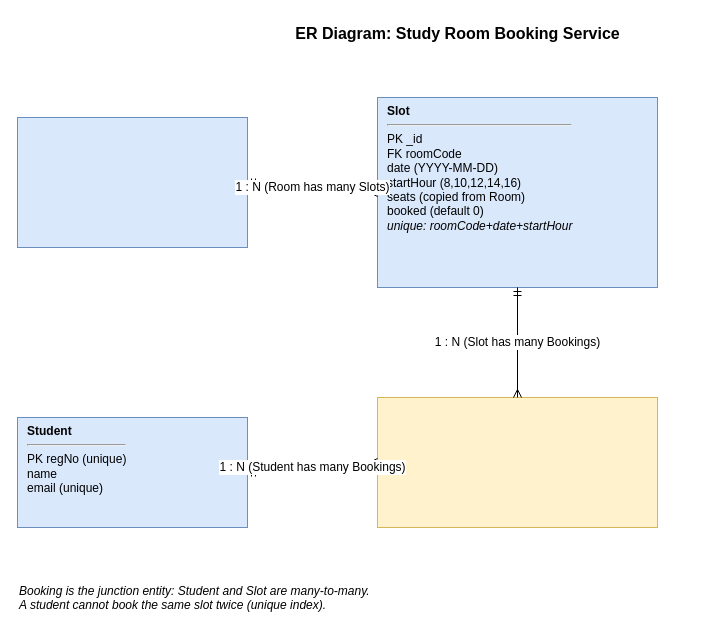
This 725x644 diagram has some shape labels left out. The centre of each missing label's shape, as x and y in pixels:
Booking PK _id FK student (Student._id) FK slot (Slot._id) unique: student+slot: point (517, 462)
Room PK roomCode (unique) name building seats: point (132, 182)
